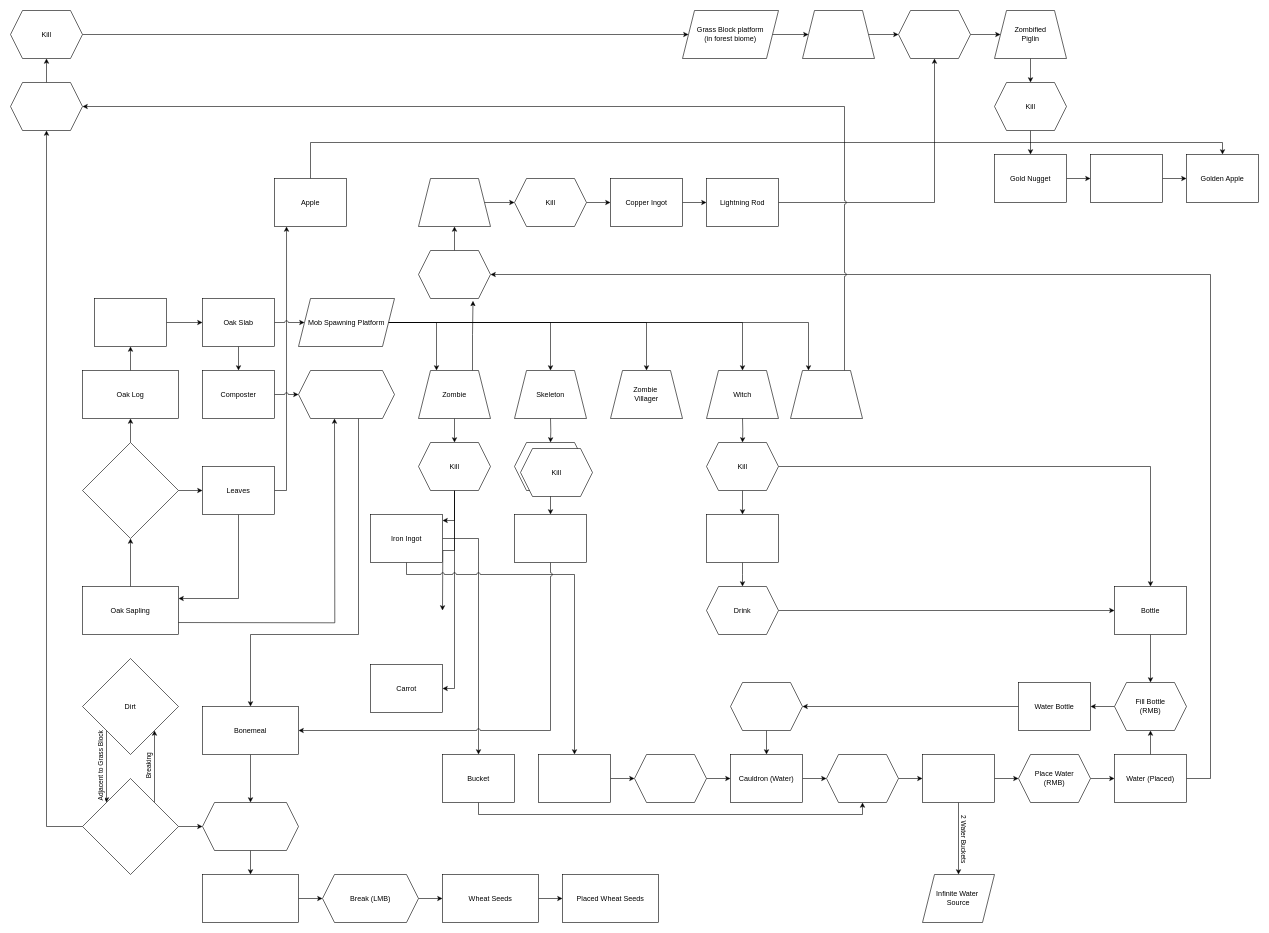
The diagram is 1269 pixels wide and 933 high, and some of its shapes have lost their labels. The centre of each missing label's shape, as x and y in pixels:
Any Potion: (x=742, y=538)
Bone: (x=550, y=538)
Cauldron: (x=574, y=778)
Compost to Bonemeal: (x=346, y=394)
Drown: (x=454, y=274)
Drowned: (x=454, y=202)
Enderman: (x=826, y=394)
Fill Bucket: (x=862, y=778)
Fill with Bottle: (x=766, y=706)
Gold Ingot: (x=1126, y=178)
Grass: (x=250, y=898)
Grass Block (at spawn): (x=130, y=826)
Grow (RMB): (x=250, y=826)
Lightning strike (near Pig): (x=934, y=34)
Oak Planks: (x=130, y=322)
Pickup Block: (x=46, y=106)
Pig: (x=838, y=34)
Rain: (x=670, y=778)
Tree: (x=130, y=490)
Water Bucket: (x=958, y=778)
